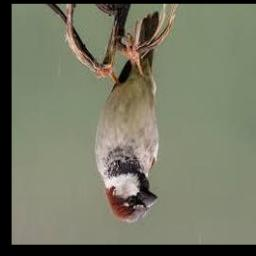Sparrow: (94, 12, 160, 224)
